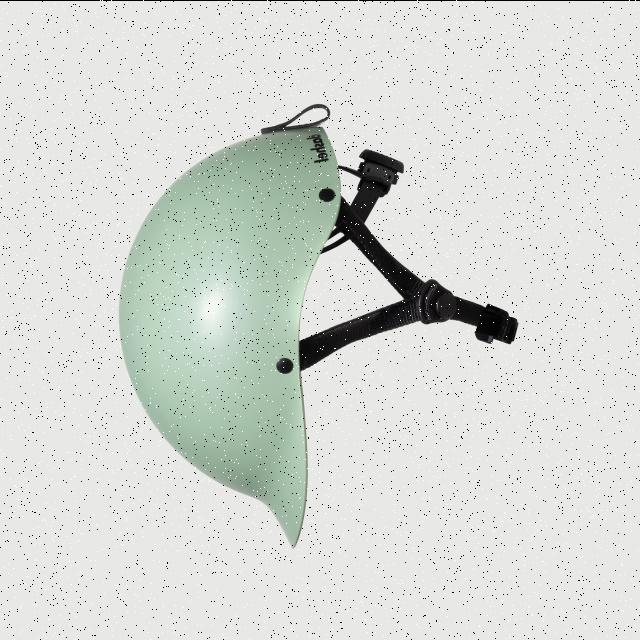Helmet: (120, 126, 341, 545)
